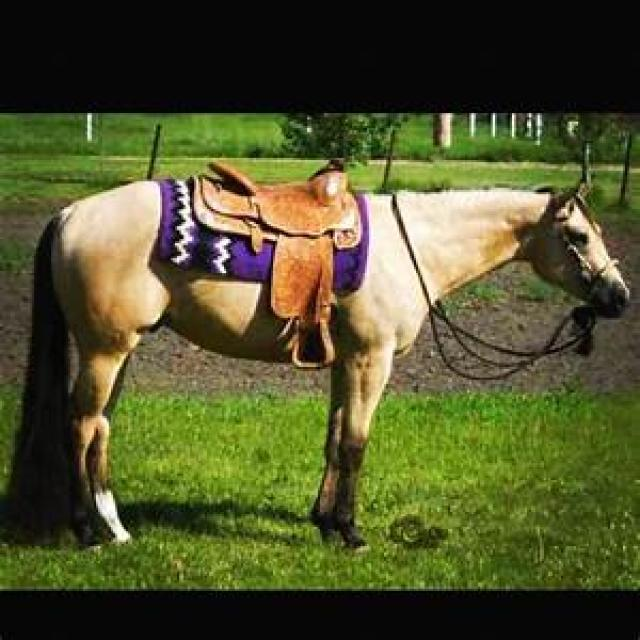horse: (6, 162, 631, 555)
